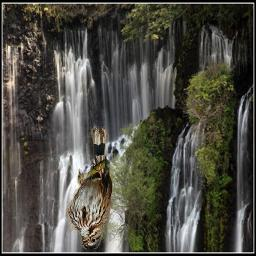Sparrow: (66, 127, 112, 250)
